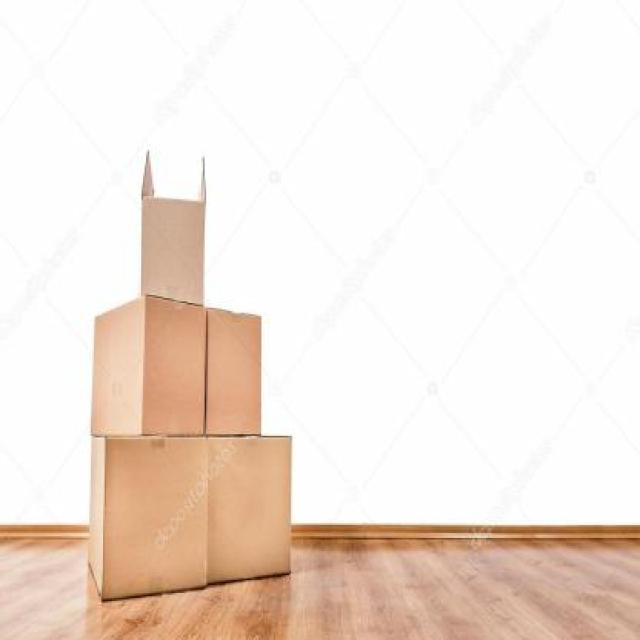box: (80, 429, 209, 624), (130, 132, 239, 317), (81, 286, 210, 441), (208, 423, 301, 590), (196, 292, 278, 438)
